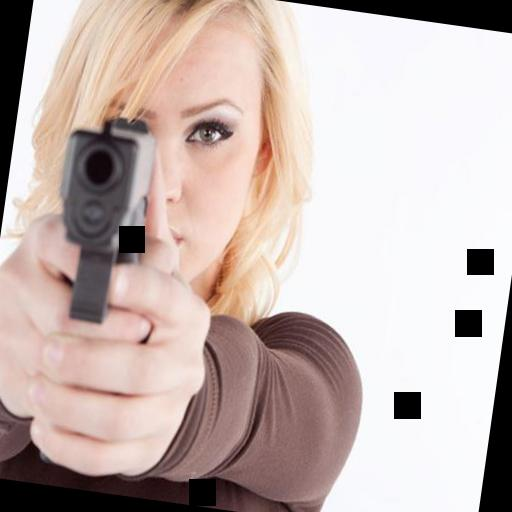Handgun: (36, 105, 164, 332)
